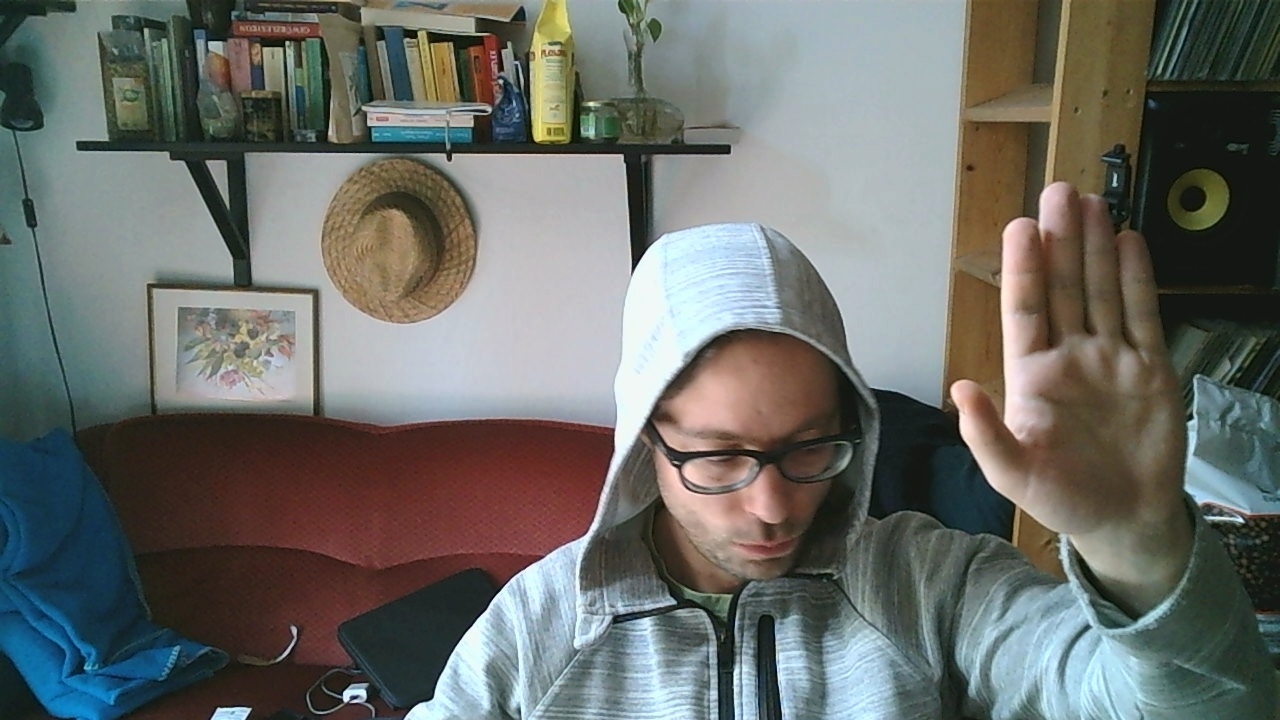hello: (949, 178, 1186, 554)
